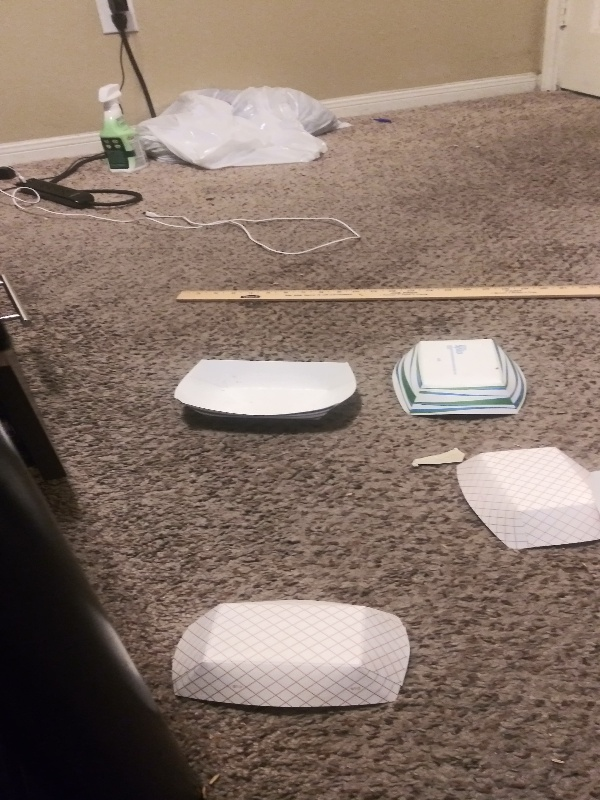plate: (169, 592, 414, 716), (448, 444, 600, 558), (170, 354, 361, 430), (386, 337, 533, 420)
